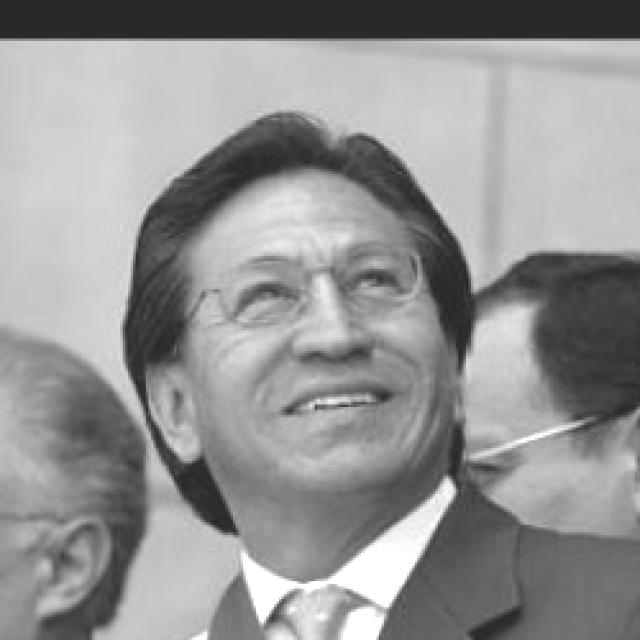real: (164, 146, 452, 502), (478, 252, 640, 550), (3, 317, 144, 640), (219, 252, 425, 326)
